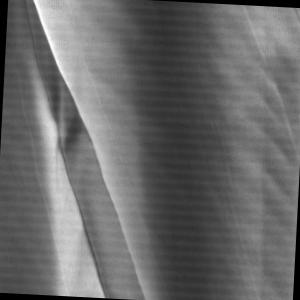Wrinkle: (1, 1, 172, 300), (177, 3, 300, 300)
